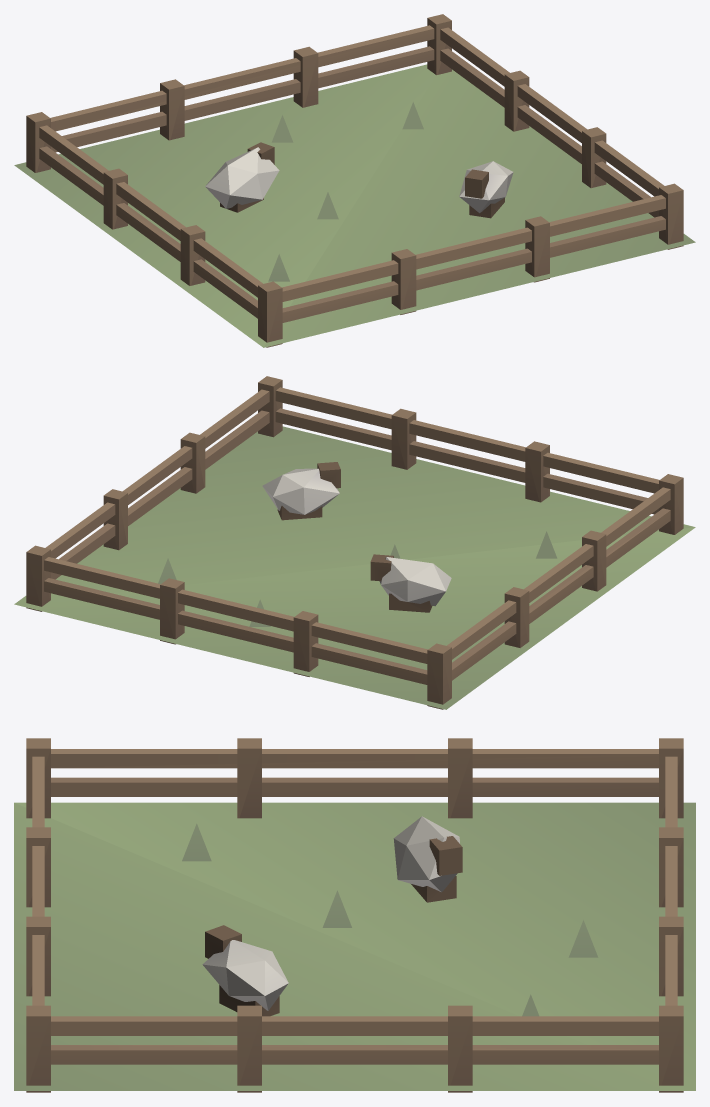
The model's file is pasture.glb.
The picture shows the model from 3 angles, top to bottom: view 1: azimuth 30°, elevation 25°; view 2: azimuth 150°, elevation 25°; view 3: azimuth 270°, elevation 25°; orthographic projection. The views are drawn at different scales.
Parts seen in each view (by area): view 1: pasture; view 2: pasture; view 3: pasture.
Part boxes in pixels (left/top/right/bottom): pasture: left=14, top=14, right=695, bottom=347; pasture: left=14, top=376, right=695, bottom=709; pasture: left=14, top=738, right=695, bottom=1092.
Bounding box in the file's own units: 1.94 × 0.24 × 1.94.
